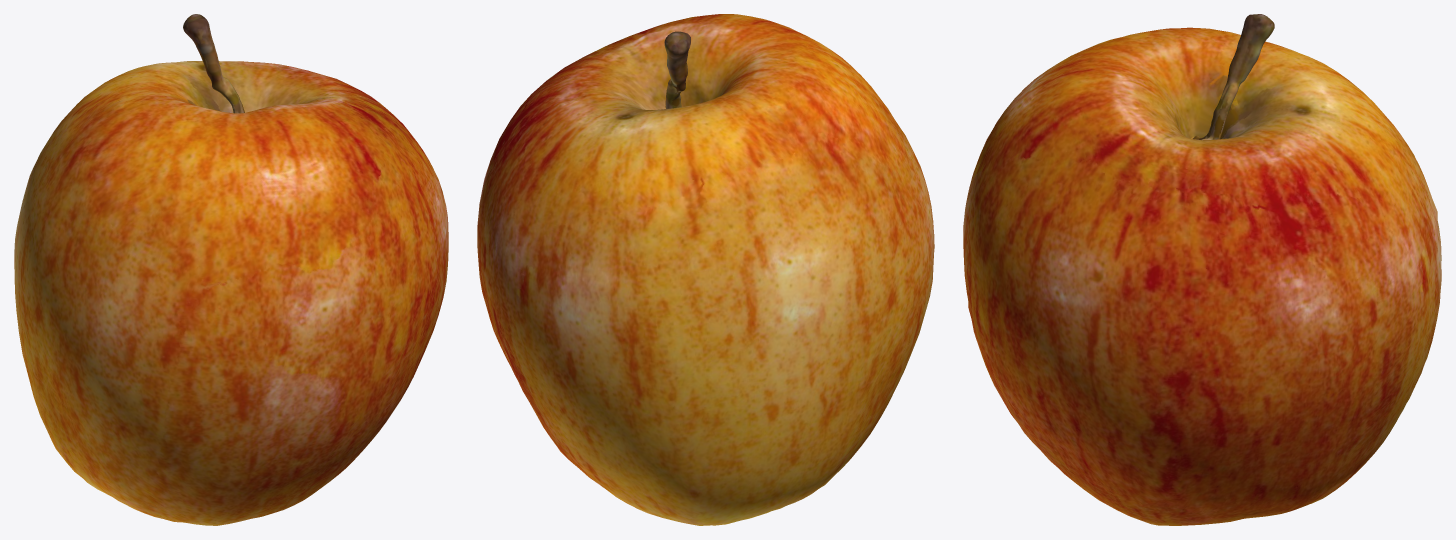
Rendered from apple1.obj.
3 renders of one model, left to right at view 1: azimuth 30°, elevation 25°; view 2: azimuth 150°, elevation 25°; view 3: azimuth 270°, elevation 25°, orthographic. The views are drawn at different scales.
Parts seen in each view (by area): view 1: objapple; view 2: objapple; view 3: objapple.
Part boxes in pixels (<box>): objapple: <box>14,14,448,525</box>; objapple: <box>477,14,934,525</box>; objapple: <box>963,14,1441,525</box>.
Size of the model in its own units: 1.74 by 2 by 1.78.
1 material, 1 textured.
